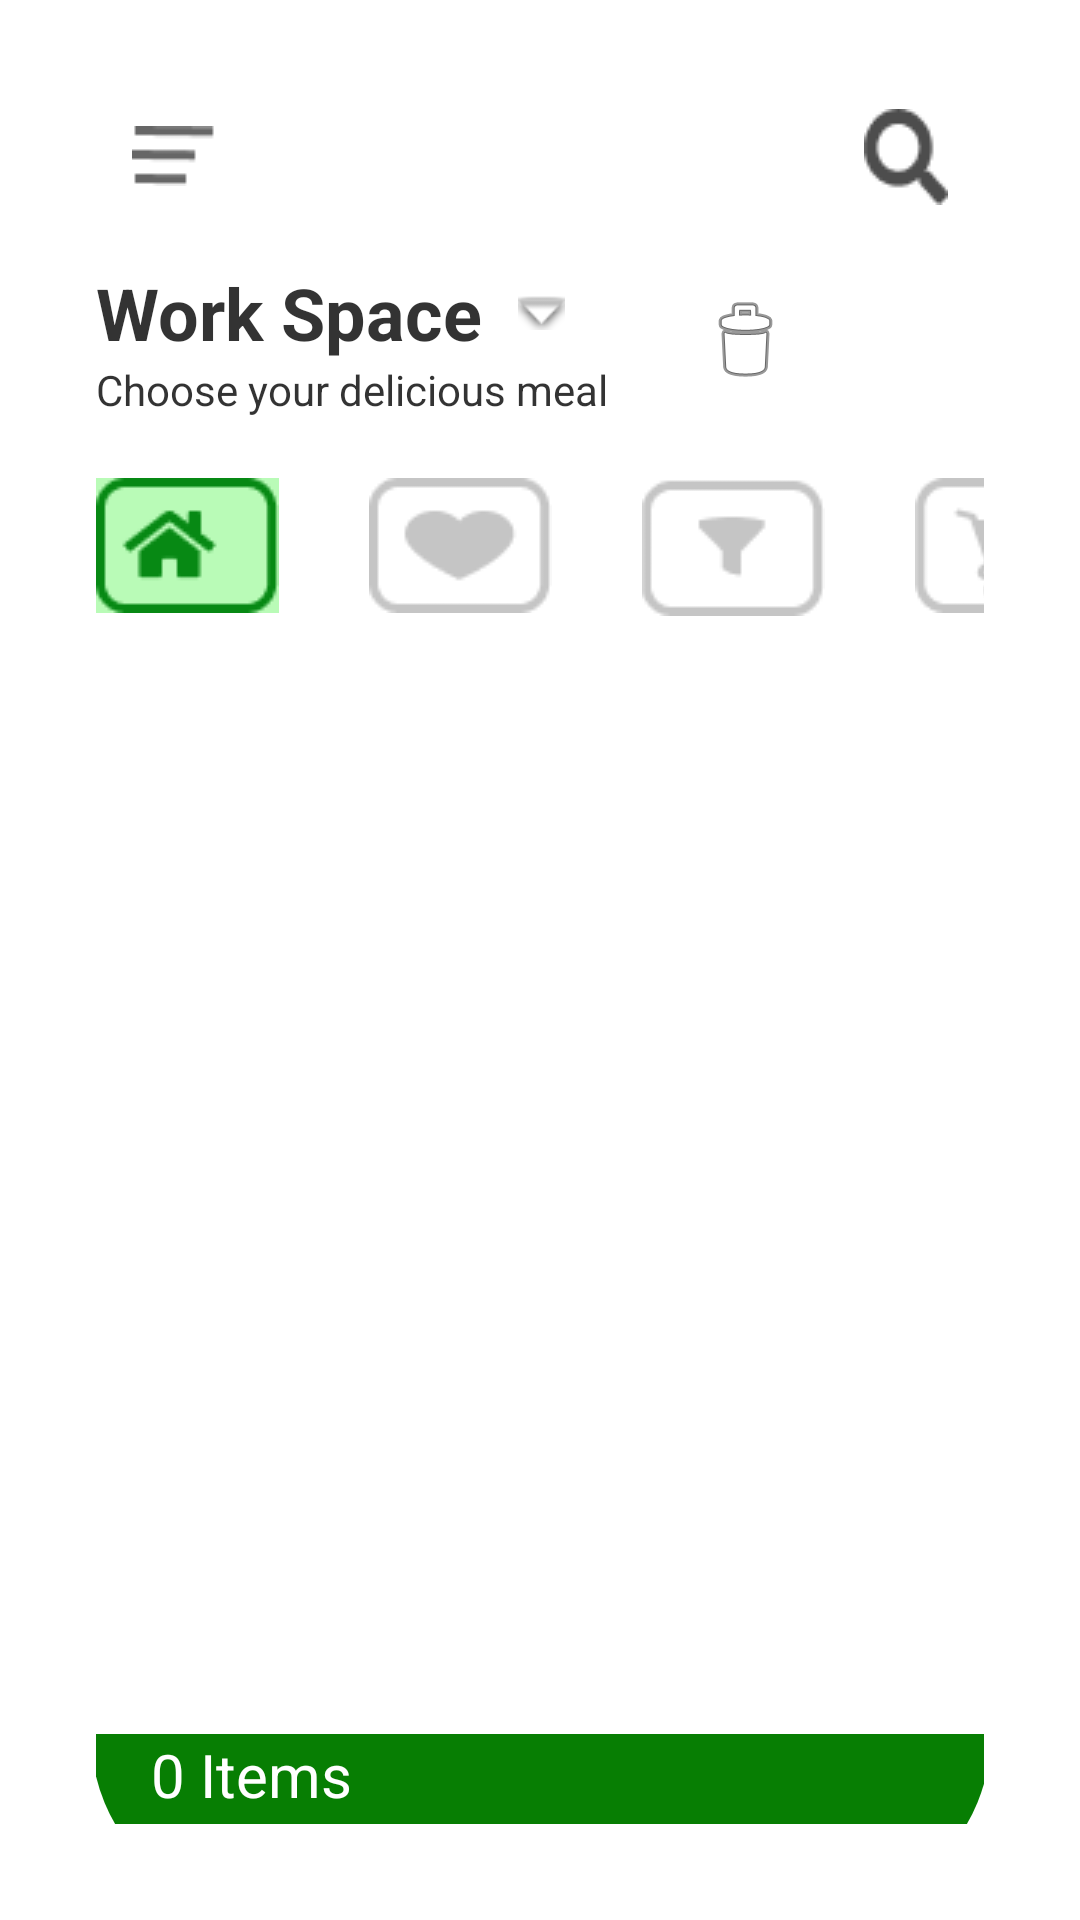

Locate icon controls on the screen. Image size 1080x1920, boxes as region(x1, y1, x2, y2).
arrow down float: region(518, 297, 565, 329)
choised: region(369, 478, 549, 613)
delete: region(718, 302, 773, 377)
find: region(864, 109, 948, 205)
home page: region(96, 478, 279, 613)
menubar: region(132, 126, 214, 184)
